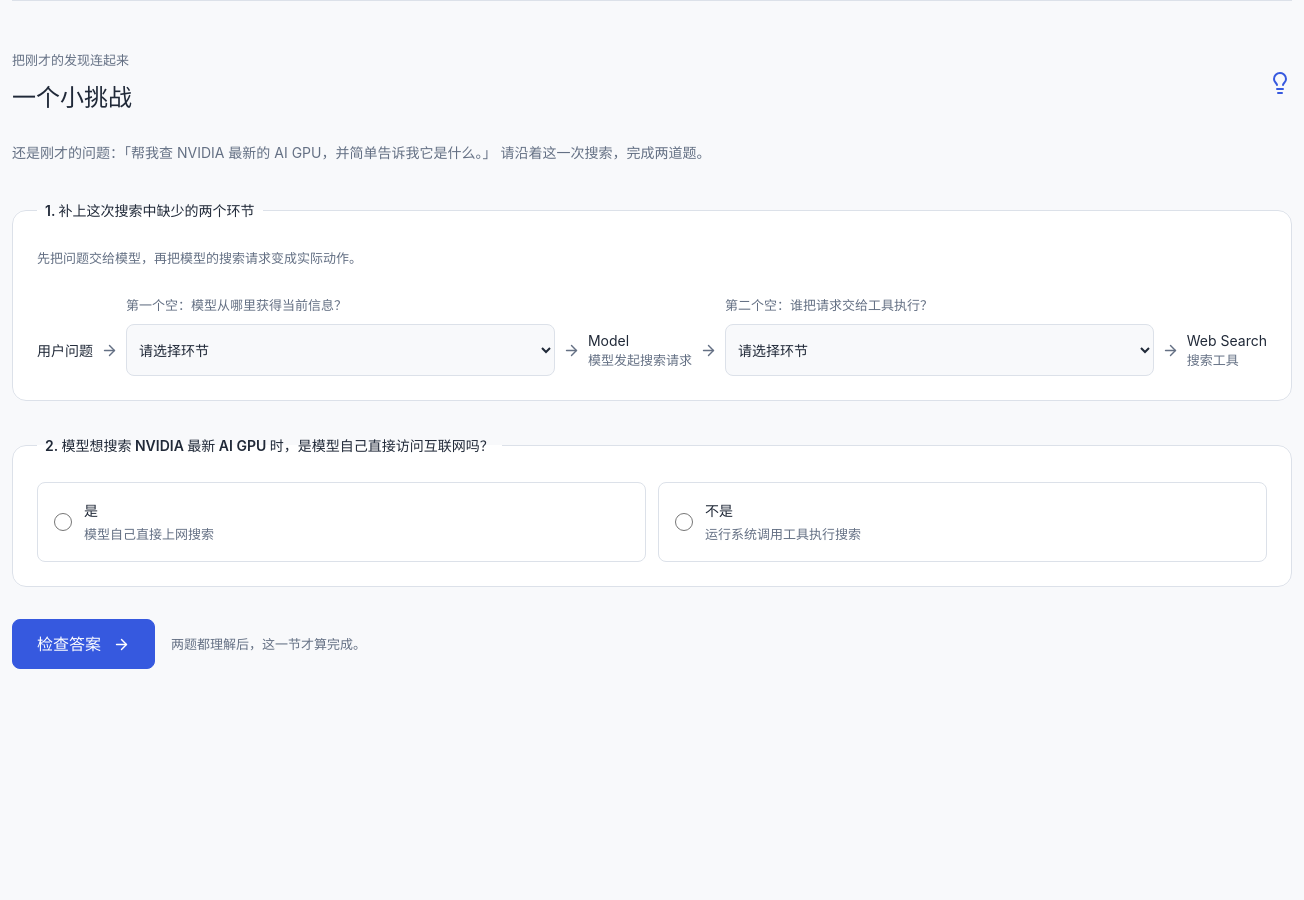
Test: MiniChallenge › explains an incorrect flow and clears outdated feedback when an answer changes
This screenshot has width=1304, height=900.
Select "Tool · 工具" in the dropdown labelled "第一个空：模型从哪里获得当前信息？" at (340, 350), box [126,324,555,376]
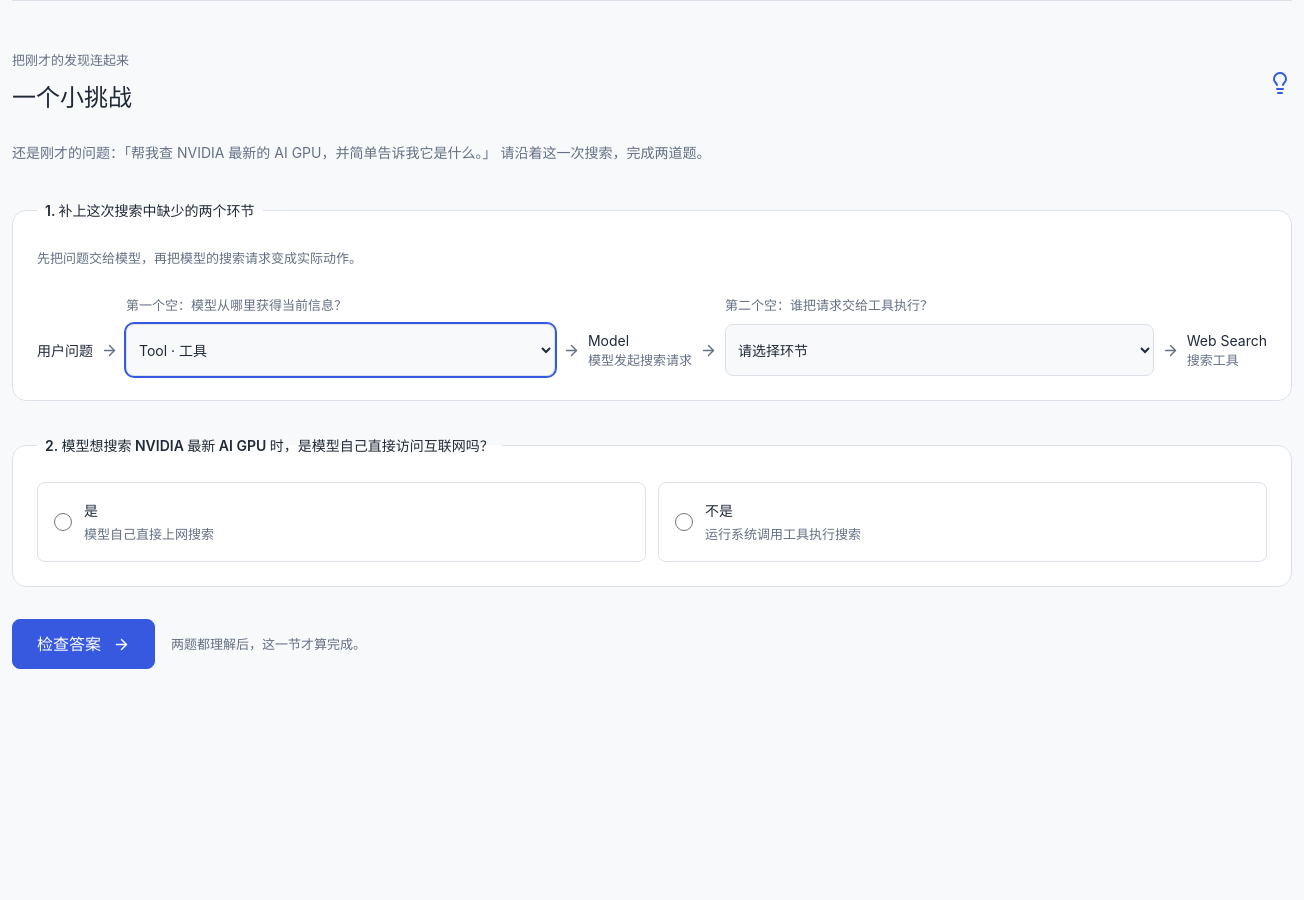
Select "Model · 模型" in the dropdown labelled "第二个空：谁把请求交给工具执行？" at (939, 350), box [725,324,1154,376]
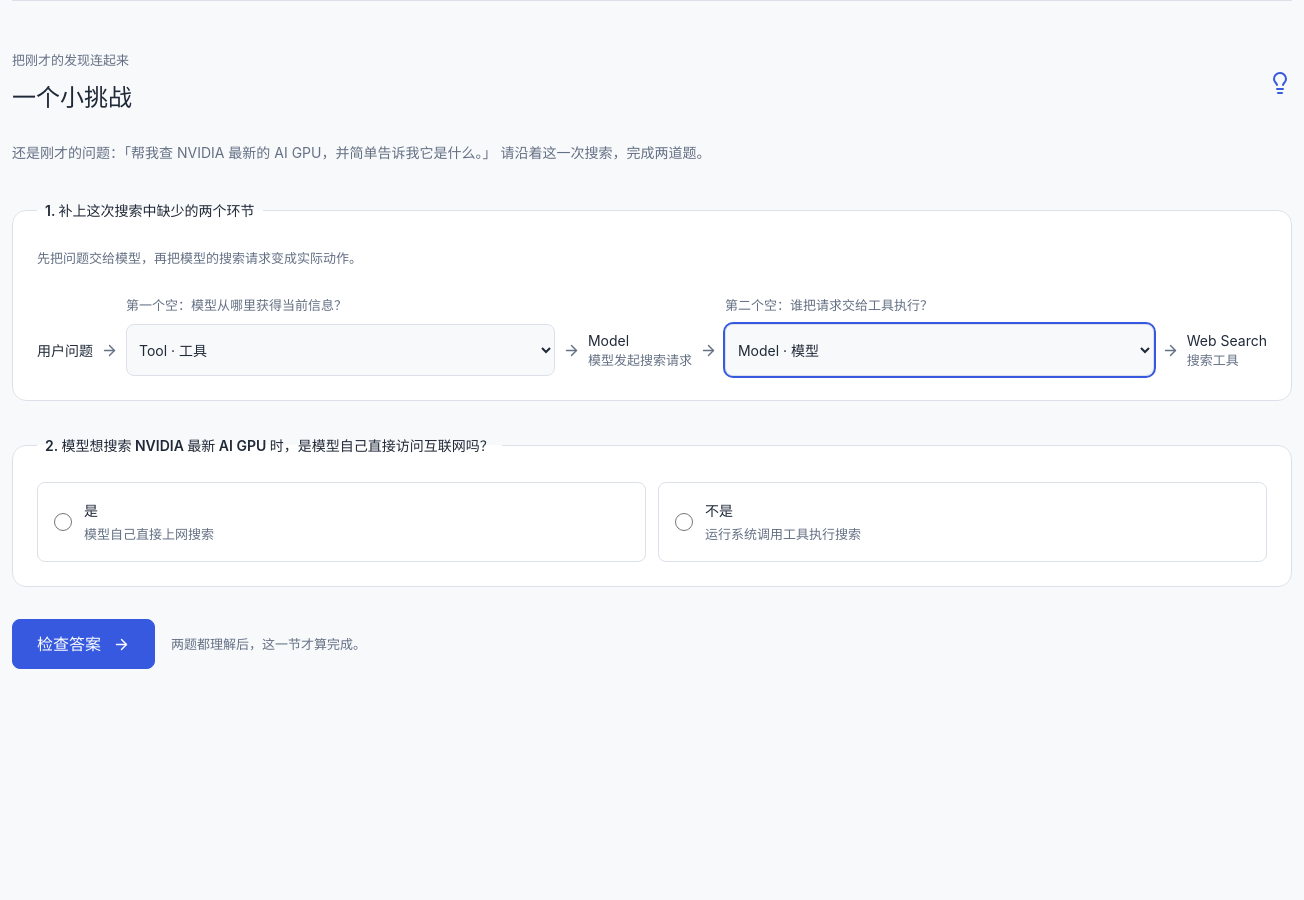
Click the radio button labelled "不是 运行系统调用工具执行搜索" at (684, 522), box [675,513,693,531]
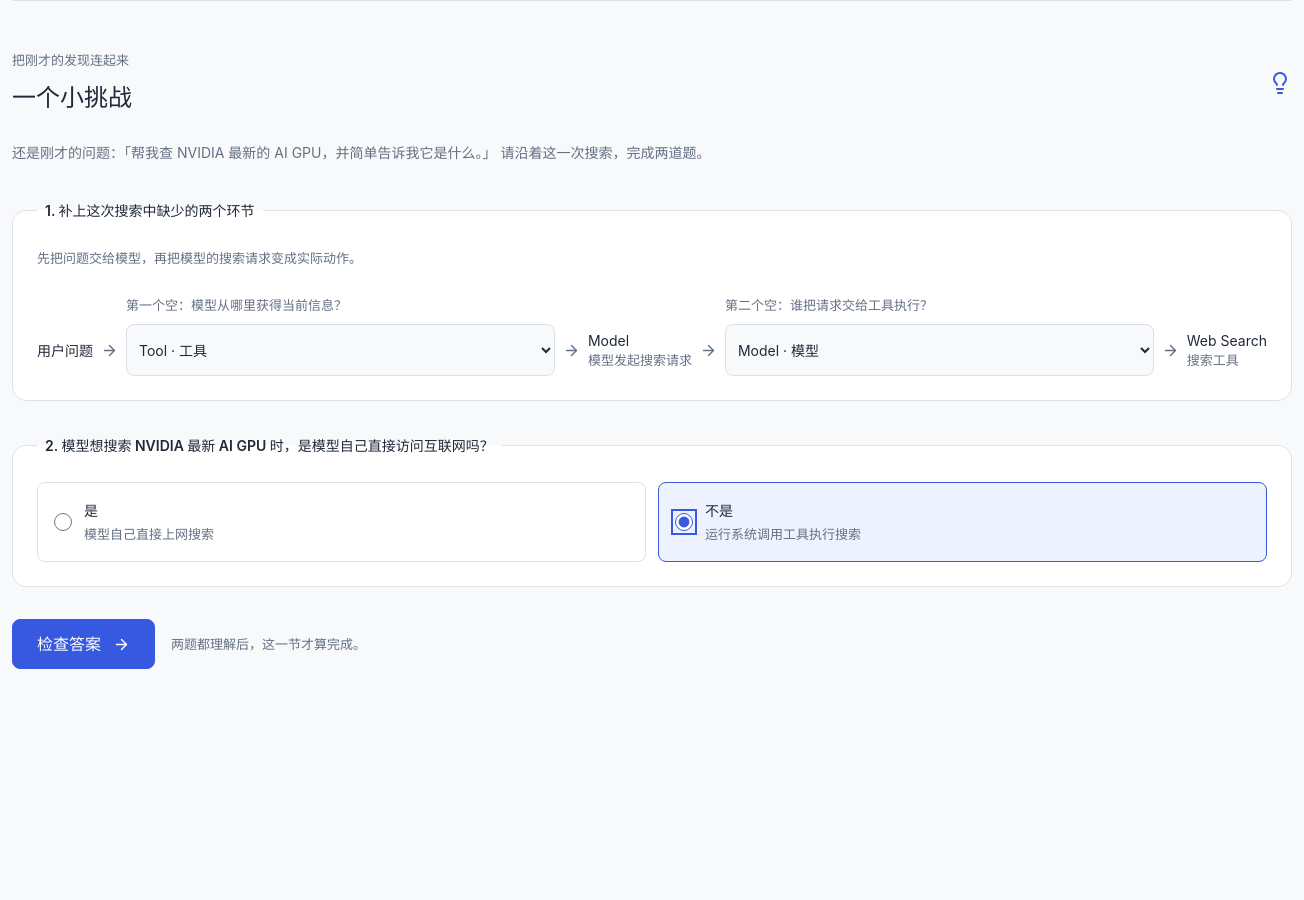
Click the button "检查答案" at (84, 644), box [12,619,155,669]
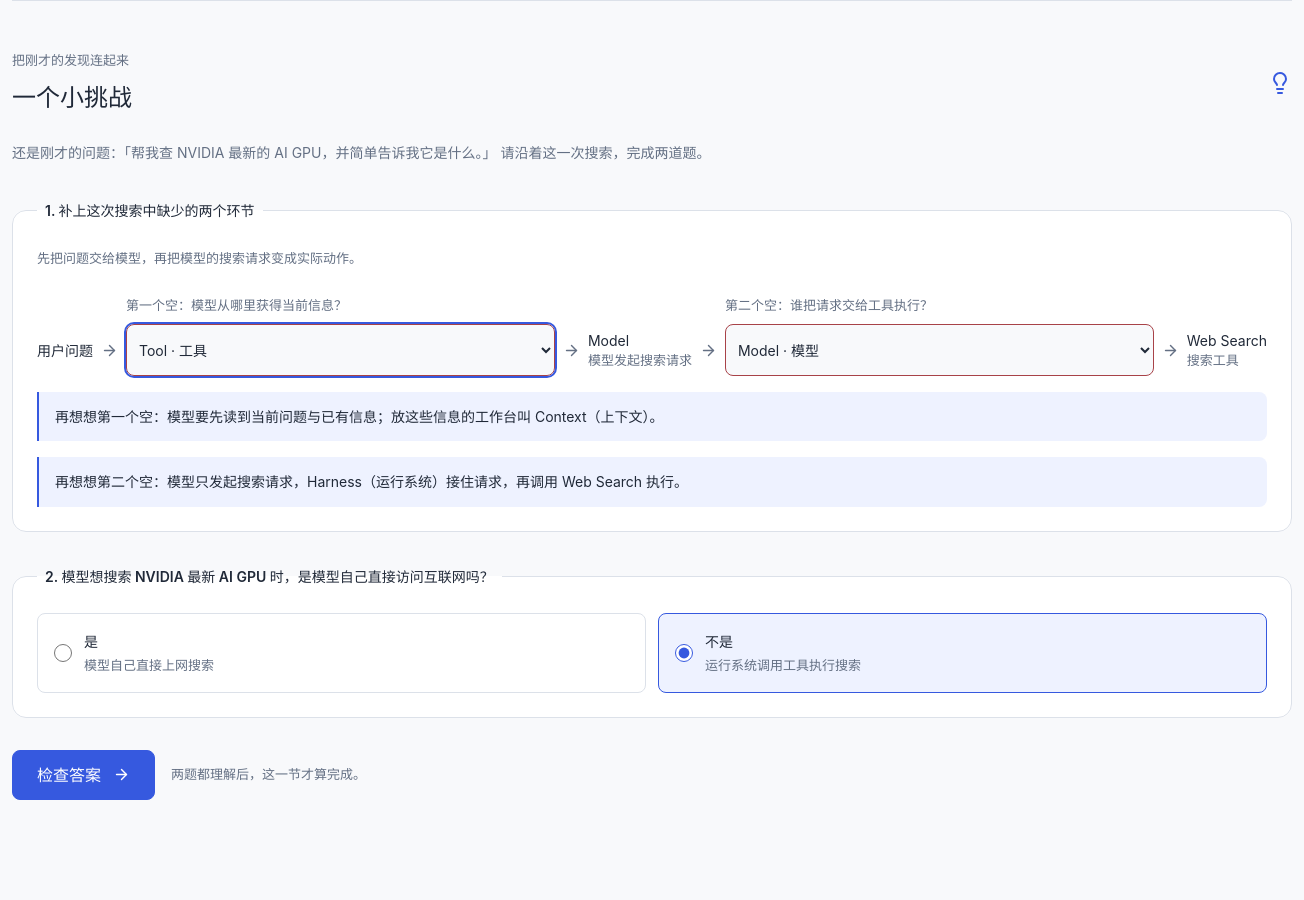
Expected: the text "再想想第二个空：模型只发起搜索请求，Harness（运行系统）接住请求，再调用 Web Search 执行。" is shown, [37,457,1267,507]
Select "Context · 上下文" in the dropdown labelled "第一个空：模型从哪里获得当前信息？" at (340, 350), box [126,324,555,376]
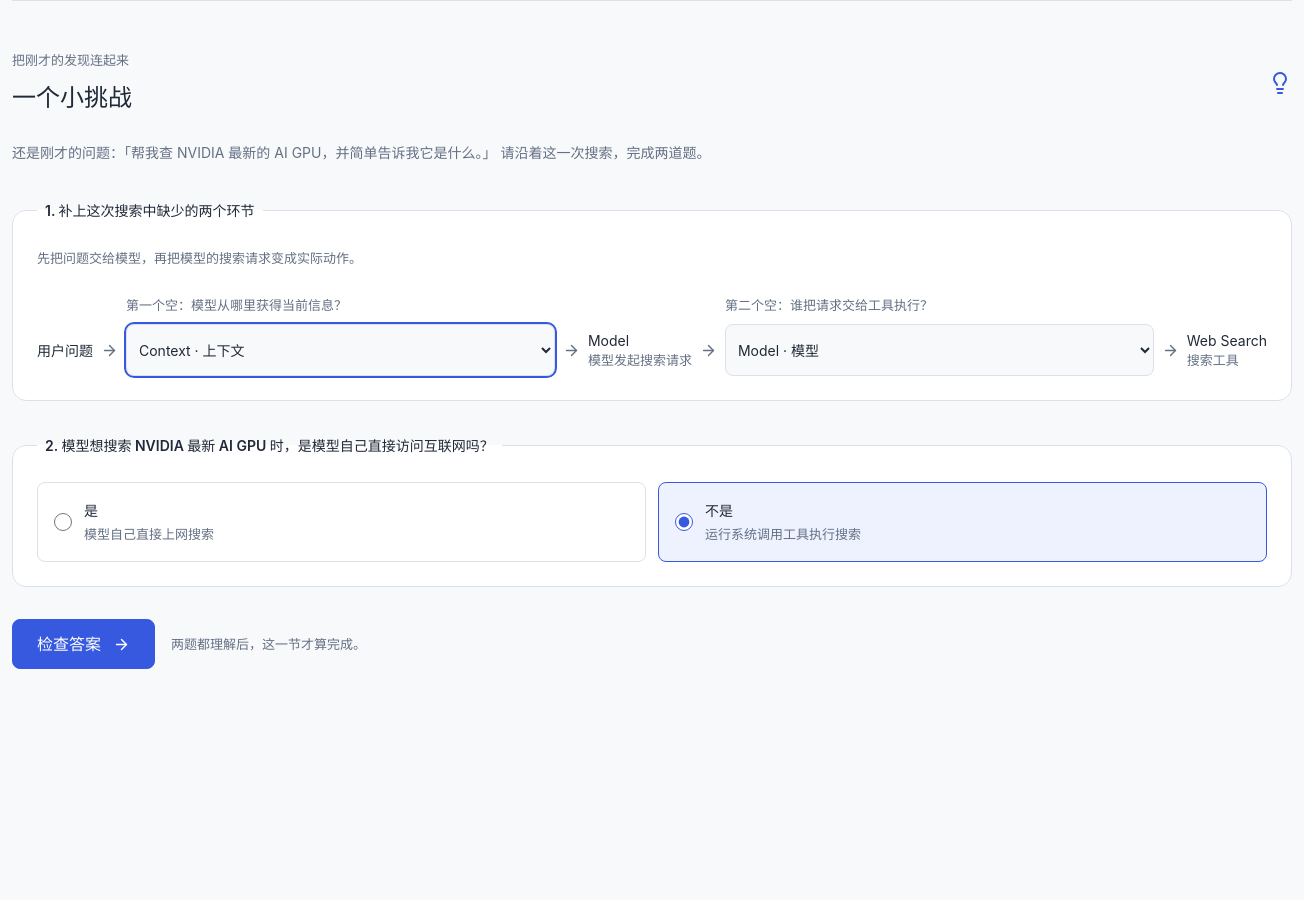
Expected: the message "再想想第一个空：模型要先读到当前问题与已有信息；放这些信息的工作台叫 Context（上下文）。" is gone
